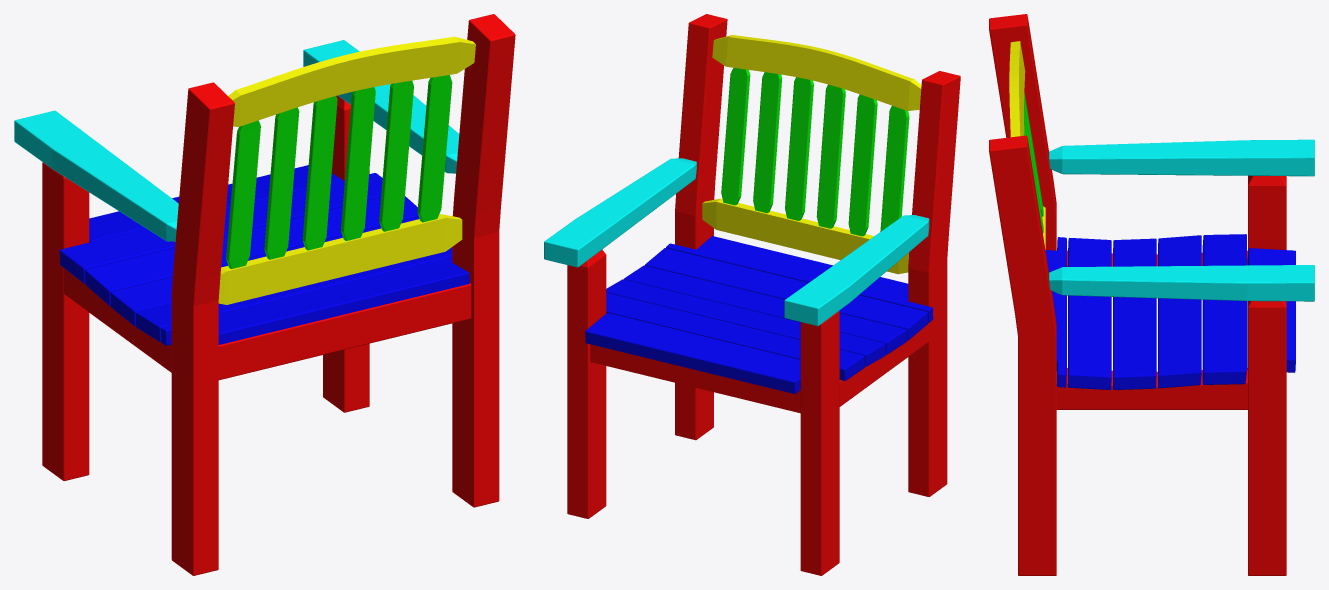
3 views of the same model, side by side, from view 1: azimuth 30°, elevation 25°; view 2: azimuth 150°, elevation 25°; view 3: azimuth 270°, elevation 25° (orthographic). The views are drawn at different scales.
Parts seen in each view (by area): view 1: Cube.001, Plane.001, Plane, Cube.004, Cube.006, Cube.005; view 2: Cube.001, Plane.001, Plane, Cube.004, Cube.006, Cube.005; view 3: Cube.001, Plane.001, Cube.004, Cube.006, Plane.
Boxes of the visible parts, x1,y1,x2,y2 form: Cube.001: [42, 14, 515, 575]; Plane.001: [59, 165, 469, 345]; Plane: [226, 75, 452, 268]; Cube.004: [14, 40, 459, 241]; Cube.006: [228, 36, 475, 126]; Cube.005: [218, 214, 462, 304]; Cube.001: [567, 14, 960, 575]; Plane.001: [585, 236, 933, 393]; Plane: [721, 68, 909, 236]; Cube.004: [544, 158, 929, 325]; Cube.006: [712, 35, 921, 110]; Cube.005: [702, 198, 909, 274]; Cube.001: [989, 14, 1286, 575]; Plane.001: [1045, 234, 1295, 389]; Cube.004: [1049, 139, 1314, 301]; Cube.006: [1009, 41, 1025, 137]; Plane: [1024, 92, 1043, 232].
Size of the model in its own units: 209 by 292 by 201.
